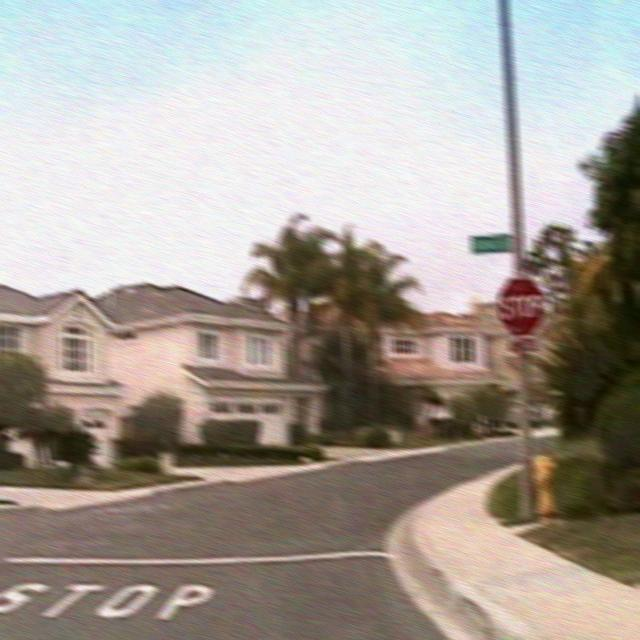stop_sign: (497, 275, 546, 336)
